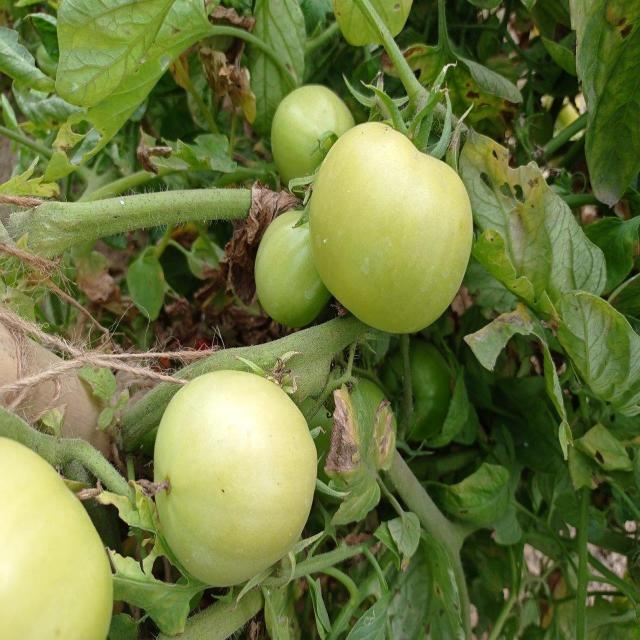Unripe: (306, 117, 473, 338), (154, 368, 317, 588)
